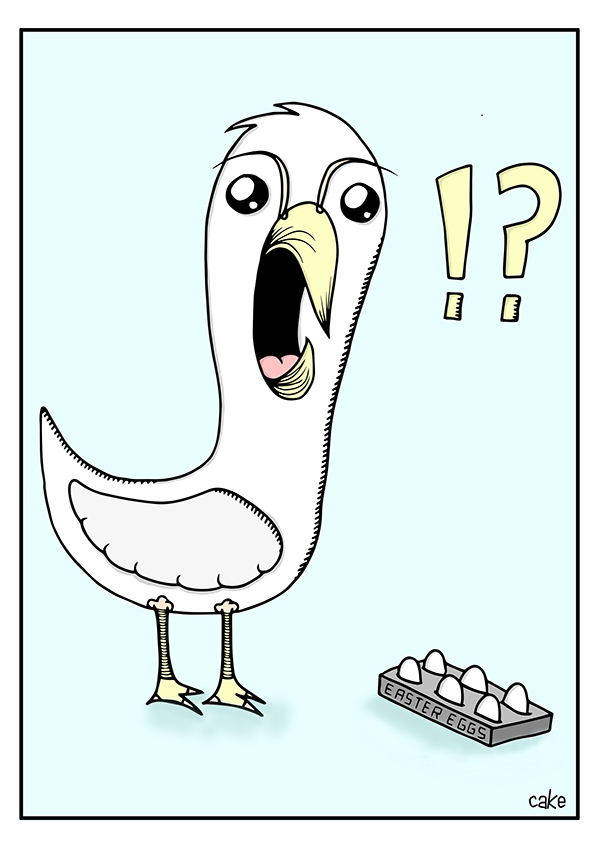bird: (40, 99, 405, 720)
